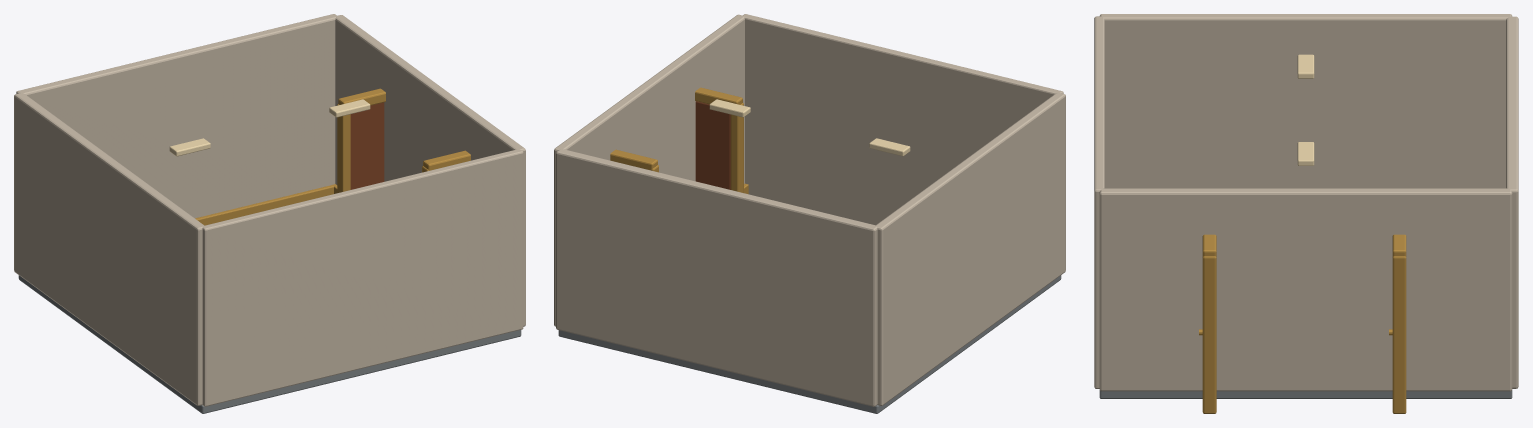
The model's file is apartment_hall_corner_a.glb.
3 renders of one model, left to right at view 1: azimuth 30°, elevation 25°; view 2: azimuth 150°, elevation 25°; view 3: azimuth 270°, elevation 25°, orthographic. The views are drawn at different scales.
Parts seen in each view (by area): view 1: CUTAWAY_FRONT, SET_Wall_Back, SET_Wall_Left, SET_Wall_Right, SET_Floor, SET_Apartment_2_Door, SET_Baseboard_Back, SET_Apartment_2_Jamb_L, SET_Apartment_1_Header, SET_Apartment_2_Header, SET_LightFixture_L, SET_LightFixture_R; view 2: SET_Wall_Back, CUTAWAY_FRONT, SET_Wall_Left, SET_Wall_Right, SET_Floor, SET_Apartment_1_Door, SET_Apartment_1_Jamb_L, SET_Apartment_2_Header, SET_Apartment_1_Header, SET_LightFixture_R, SET_LightFixture_L; view 3: SET_Wall_Right, SET_Wall_Left, SET_Wall_Back, SET_Floor, CUTAWAY_FRONT, SET_Apartment_2_Jamb_R, SET_Apartment_1_Jamb_R, SET_LightFixture_L, SET_LightFixture_R.
Boxes of the visible parts, x1,y1,x2,y2 form: CUTAWAY_FRONT: (202,149,523,406); SET_Wall_Back: (16,14,336,218); SET_Wall_Left: (14,93,204,405); SET_Wall_Right: (335,15,525,326); SET_Floor: (18,275,521,413); SET_Apartment_2_Door: (350,102,384,189); SET_Baseboard_Back: (195,184,336,225); SET_Apartment_2_Jamb_L: (337,104,350,192); SET_Apartment_1_Header: (423,150,470,170); SET_Apartment_2_Header: (338,88,385,105); SET_LightFixture_L: (169,138,210,156); SET_LightFixture_R: (329,99,370,117); SET_Wall_Back: (556,149,877,406); CUTAWAY_FRONT: (743,14,1063,225); SET_Wall_Left: (876,93,1065,405); SET_Wall_Right: (554,14,744,326); SET_Floor: (558,275,1061,413); SET_Apartment_1_Door: (695,101,730,189); SET_Apartment_1_Jamb_L: (730,103,743,192); SET_Apartment_2_Header: (610,149,657,170); SET_Apartment_1_Header: (695,87,742,104); SET_LightFixture_R: (709,99,750,117); SET_LightFixture_L: (869,138,910,156); SET_Wall_Right: (1099,188,1512,391); SET_Wall_Left: (1100,14,1512,188); SET_Wall_Back: (1506,16,1518,388); SET_Floor: (1099,390,1512,398); CUTAWAY_FRONT: (1094,16,1104,388); SET_Apartment_2_Jamb_R: (1392,256,1406,413); SET_Apartment_1_Jamb_R: (1202,256,1216,413); SET_LightFixture_L: (1297,54,1314,78); SET_LightFixture_R: (1297,142,1314,165).
Size of what is drawn, in the model's own units: 6.76 by 3.36 by 6.17.
